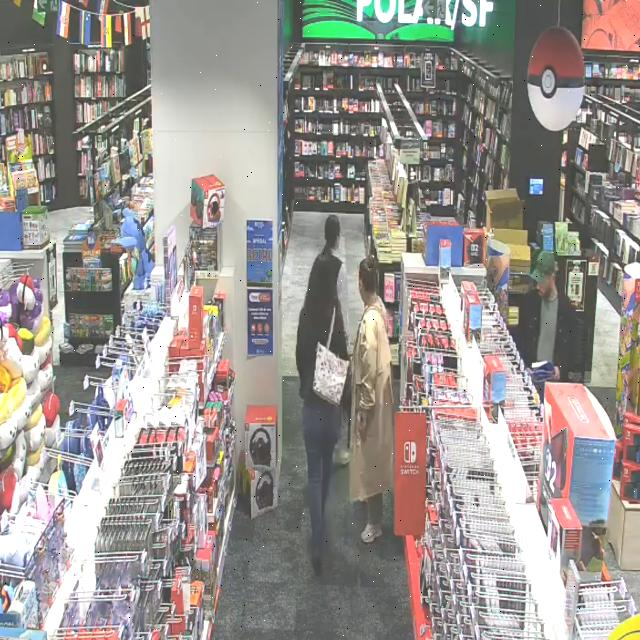bags: (313, 309, 348, 405)
hands: (357, 412, 367, 440), (554, 367, 560, 380)
person: (296, 254, 348, 574), (350, 258, 393, 543), (519, 251, 572, 381), (322, 215, 349, 344)
